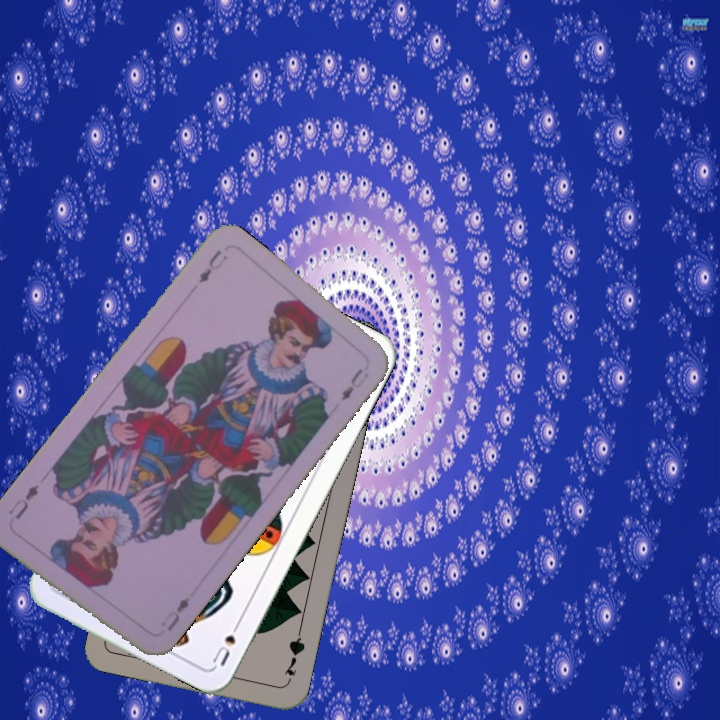EU: (156, 593, 193, 634), (194, 245, 231, 286)
G7: (280, 627, 308, 686)
SU: (208, 614, 244, 669)
